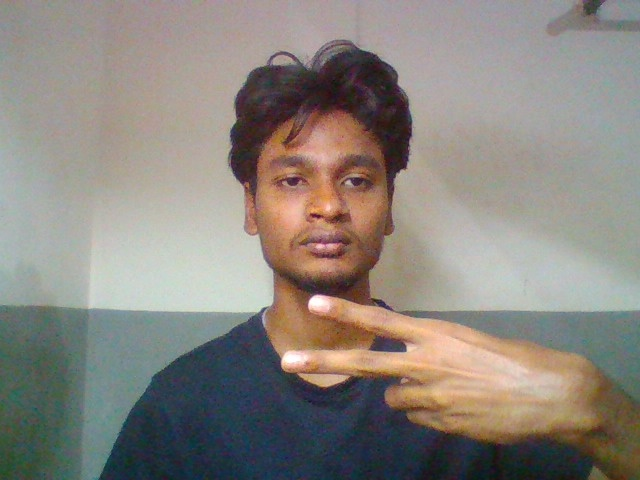F: (254, 264, 626, 463)
